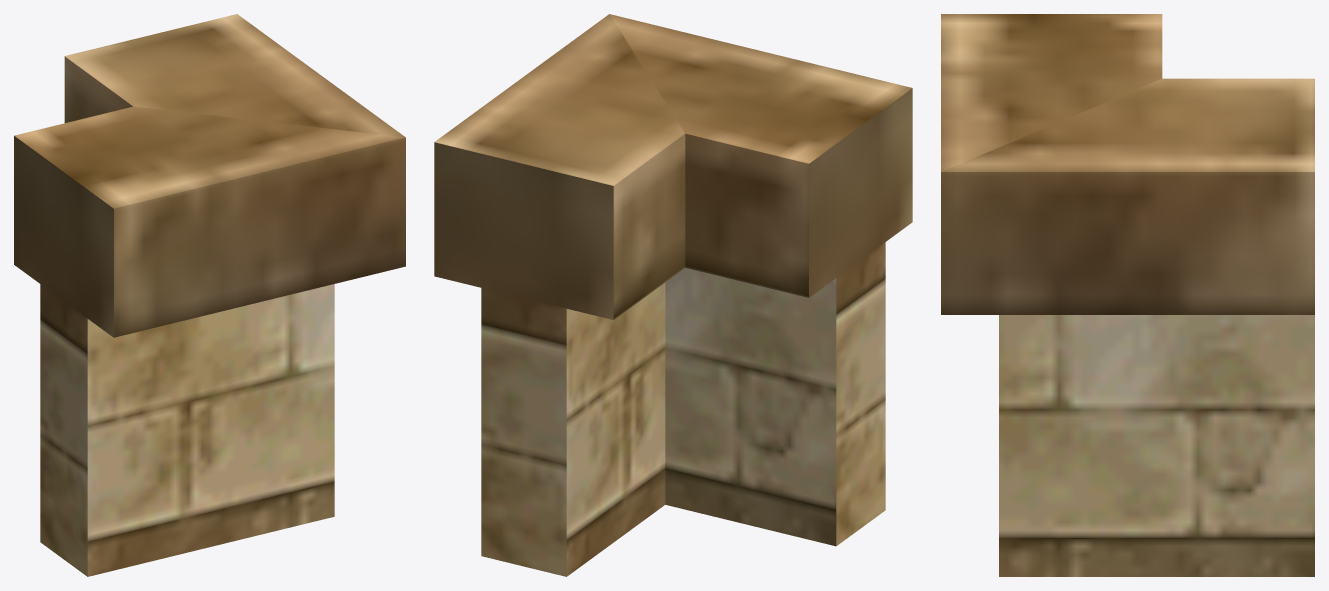
The model's file is DesertTown - wall - corner.fbx.
The picture shows the model from 3 angles, left to right: view 1: azimuth 30°, elevation 25°; view 2: azimuth 150°, elevation 25°; view 3: azimuth 270°, elevation 25°; orthographic projection. The views are drawn at different scales.
Parts seen in each view (by area): view 1: DesertTown_wall_corner; view 2: DesertTown_wall_corner; view 3: DesertTown_wall_corner.
Boxes of the visible parts, x1,y1,x2,y2 form: DesertTown_wall_corner: [14, 14, 405, 576]; DesertTown_wall_corner: [434, 14, 912, 576]; DesertTown_wall_corner: [941, 14, 1314, 576].
Size of the model in its own units: 0.71 by 0.9 by 0.71.
